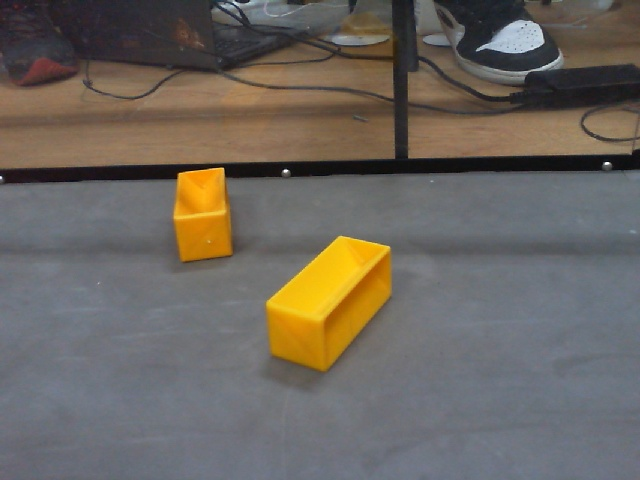YellowSample: (263, 232, 398, 374), (169, 164, 236, 263)
